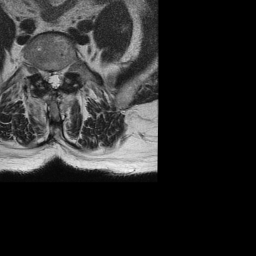CCS_normal: (51, 66, 58, 92)
LFS_normal: (64, 62, 70, 80)
LLS_normal: (58, 63, 65, 87)
RFS_stenosis: (35, 62, 43, 83)
RLS_normal: (43, 64, 50, 86)
